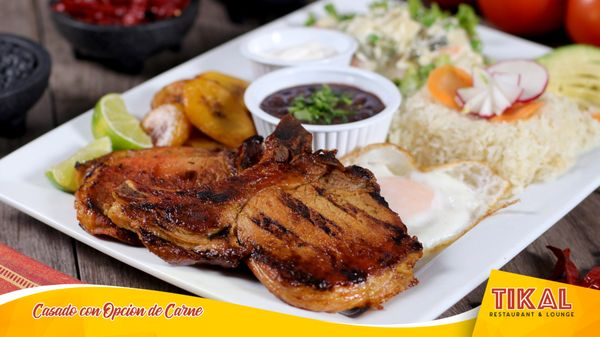soup: (388, 59, 598, 189)
sushi: (243, 64, 402, 156), (49, 1, 201, 73), (242, 27, 359, 71)
